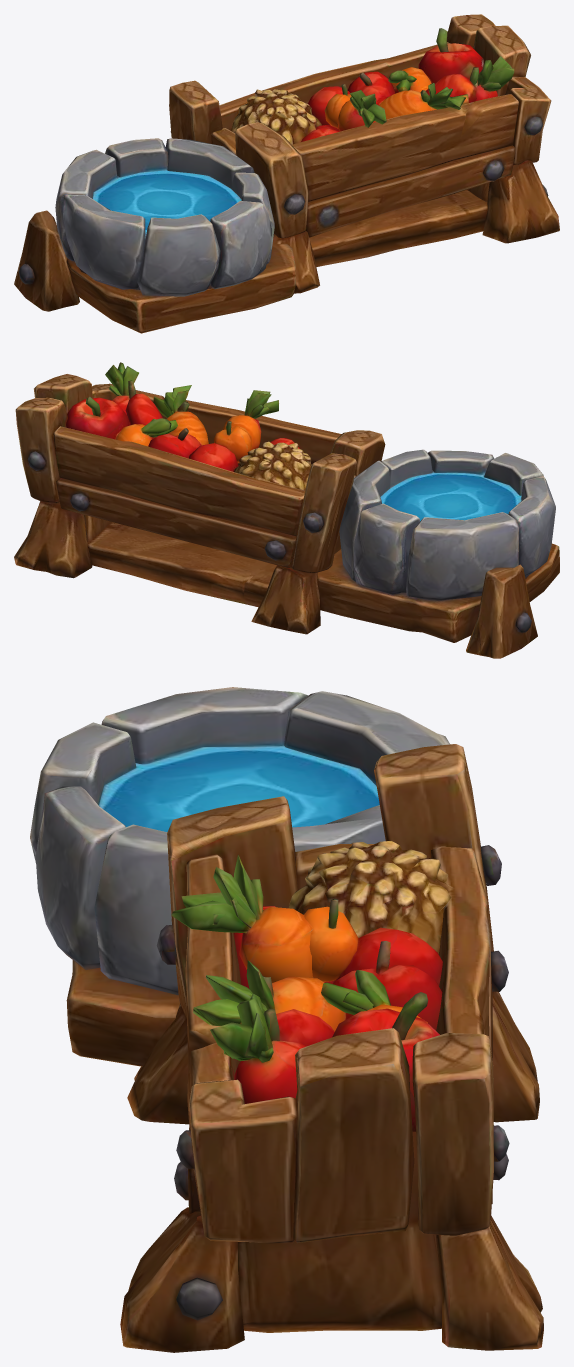
File: enclos_mangeoire.glb
3 renders of one model, top to bottom at view 1: azimuth 30°, elevation 25°; view 2: azimuth 150°, elevation 25°; view 3: azimuth 270°, elevation 25°, orthographic. The views are drawn at different scales.
Bounding box in the file's own units: 0.9575 × 0.2983 × 0.4356.
Materials: 1 (1 with a texture image).
